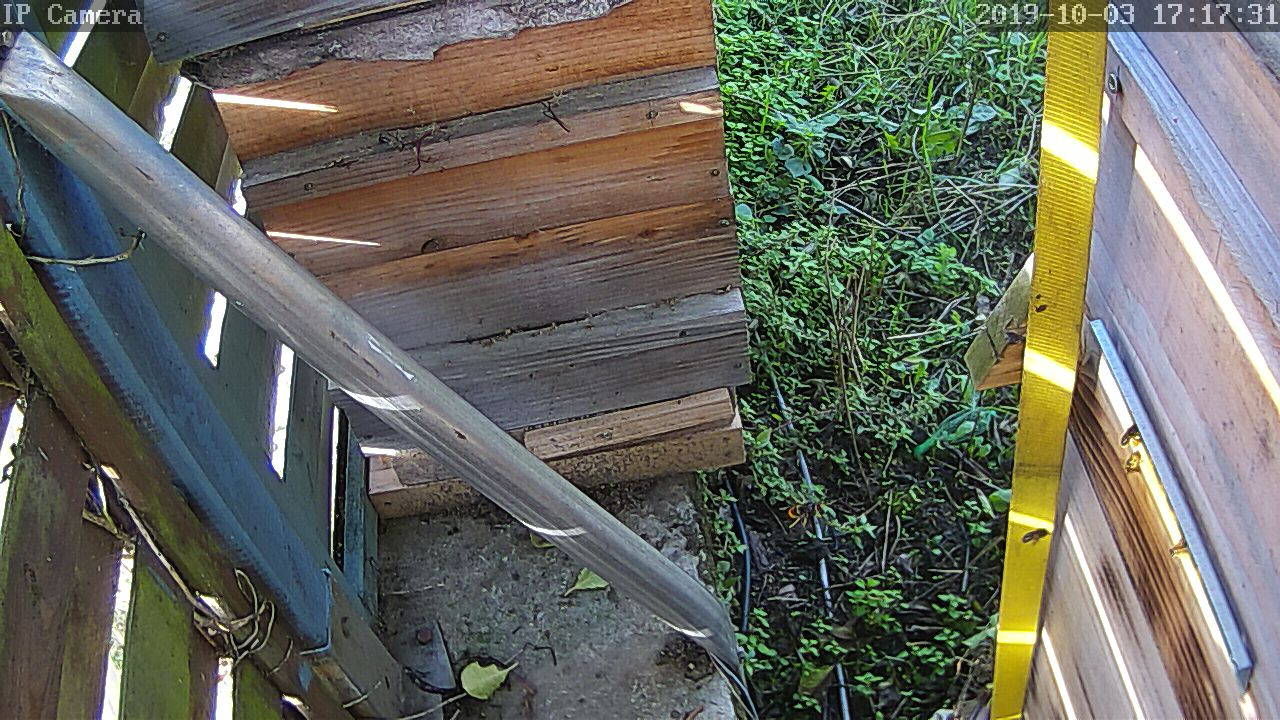bee: (1115, 426, 1149, 478), (1020, 524, 1051, 547)
hornet: (784, 490, 827, 530)
